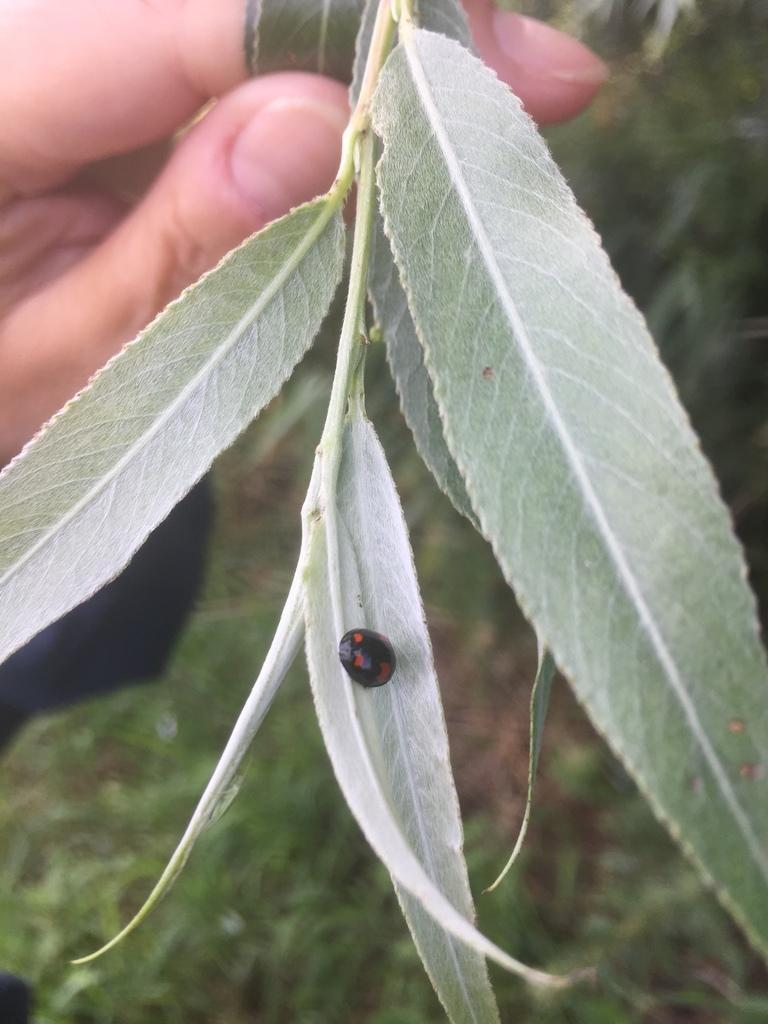ladybug: (338, 626, 401, 693)
